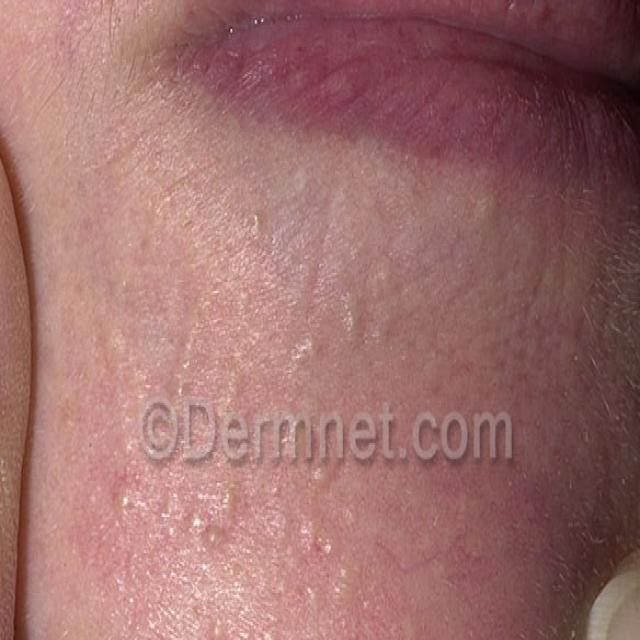Acne: (107, 425, 321, 640), (343, 240, 404, 341), (283, 326, 335, 392), (241, 216, 279, 259)
